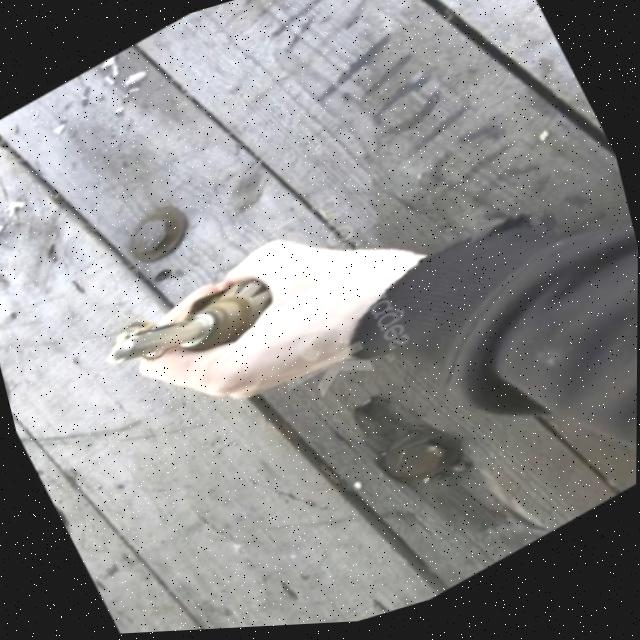grenade: (85, 256, 293, 407)
